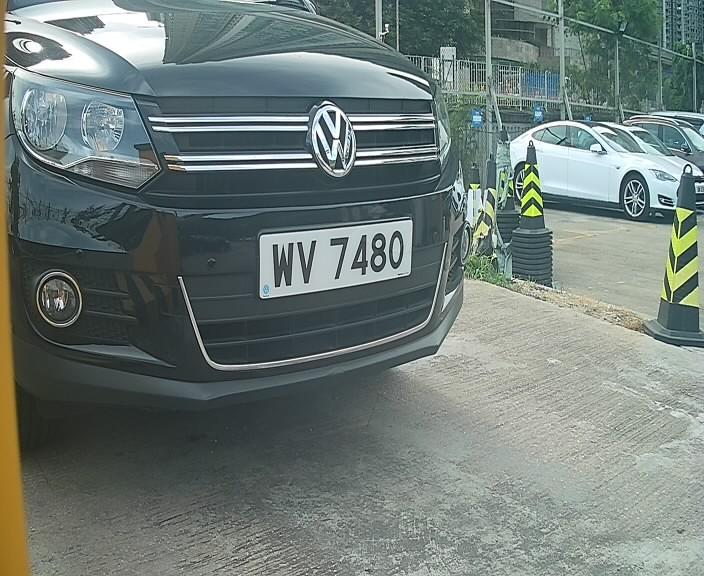privatecar: (2, 3, 474, 438)
